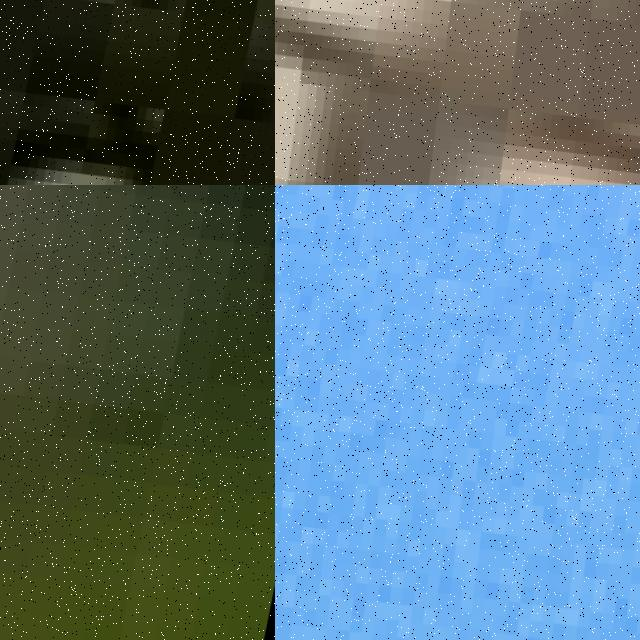0: (0, 0, 275, 185)
drone: (0, 185, 275, 640), (275, 185, 640, 424)
